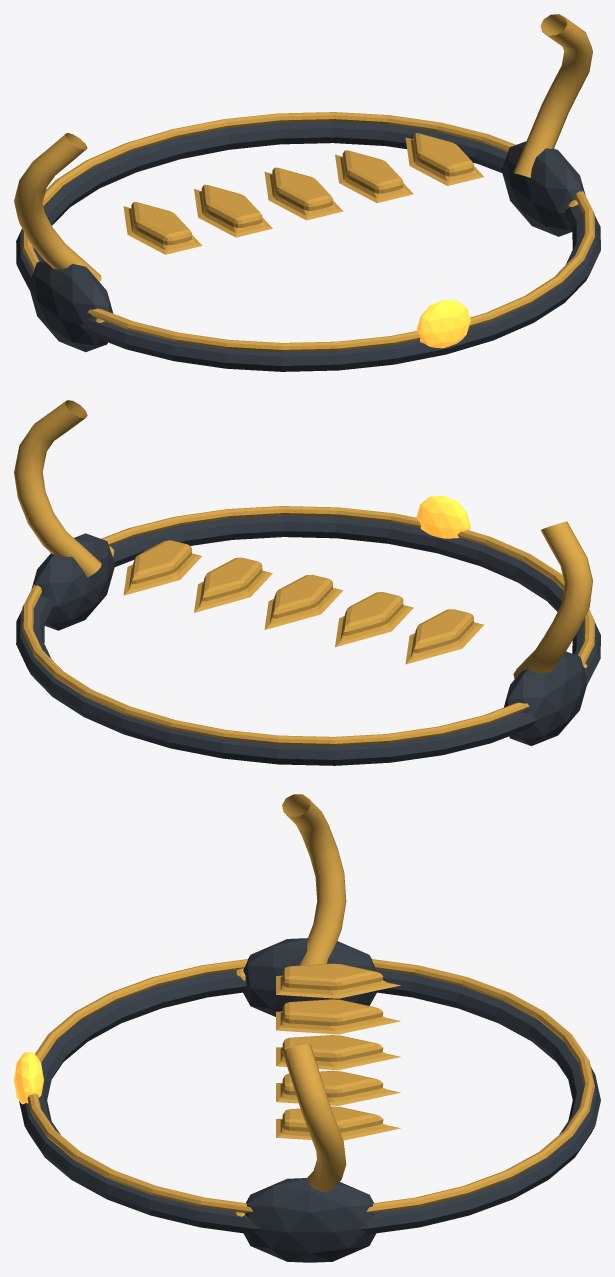
File: helmet_bastion.glb
3 renders of one model, top to bottom at view 1: azimuth 30°, elevation 25°; view 2: azimuth 150°, elevation 25°; view 3: azimuth 270°, elevation 25°, orthographic. The views are drawn at different scales.
Visible parts, largest first — view 1: BastionCirclet, GoldTrim, TempleGuard, RightCrest, TempleGuard.001, LeftCrest, CrownTooth.003, CrownTooth, CrownTooth.001, CrownTooth.004, CrownTooth.002, FrontGem; view 2: BastionCirclet, GoldTrim, RightCrest, LeftCrest, TempleGuard, TempleGuard.001, CrownTooth.001, CrownTooth.004, CrownTooth.003, CrownTooth, CrownTooth.002, FrontGem; view 3: BastionCirclet, GoldTrim, TempleGuard.001, LeftCrest, RightCrest, TempleGuard, CrownTooth.001, CrownTooth, CrownTooth.002, CrownTooth.003, CrownTooth.004, FrontGem.
Boxes of the visible parts, <box> form: BastionCirclet: <box>16,121,600,371</box>; GoldTrim: <box>22,112,594,352</box>; TempleGuard: <box>30,260,113,352</box>; RightCrest: <box>513,14,592,177</box>; TempleGuard.001: <box>501,141,585,236</box>; LeftCrest: <box>14,133,101,281</box>; CrownTooth.003: <box>335,150,413,202</box>; CrownTooth: <box>123,202,202,254</box>; CrownTooth.001: <box>194,184,272,237</box>; CrownTooth.004: <box>405,133,483,185</box>; CrownTooth.002: <box>264,167,343,220</box>; FrontGem: <box>416,300,470,348</box>; BastionCirclet: <box>16,515,600,765</box>; GoldTrim: <box>22,506,594,746</box>; RightCrest: <box>14,400,101,577</box>; LeftCrest: <box>513,521,592,678</box>; TempleGuard: <box>504,651,587,745</box>; TempleGuard.001: <box>31,533,115,630</box>; CrownTooth.001: <box>335,592,413,647</box>; CrownTooth.004: <box>123,540,201,595</box>; CrownTooth.003: <box>194,557,272,612</box>; CrownTooth: <box>405,609,484,664</box>; CrownTooth.002: <box>264,574,342,629</box>; FrontGem: <box>416,496,470,538</box>; BastionCirclet: <box>19,969,600,1234</box>; GoldTrim: <box>27,959,594,1213</box>; TempleGuard.001: <box>243,1178,376,1262</box>; LeftCrest: <box>282,794,346,965</box>; RightCrest: <box>282,1044,346,1191</box>; TempleGuard: <box>243,938,377,1016</box>; CrownTooth.001: <box>276,999,400,1034</box>; CrownTooth: <box>276,963,400,998</box>; CrownTooth.002: <box>276,1035,400,1070</box>; CrownTooth.003: <box>276,1070,400,1105</box>; CrownTooth.004: <box>276,1106,400,1140</box>; FrontGem: <box>14,1052,43,1104</box>.
Size of the model in its own units: 1.38 by 0.4967 by 1.18.
